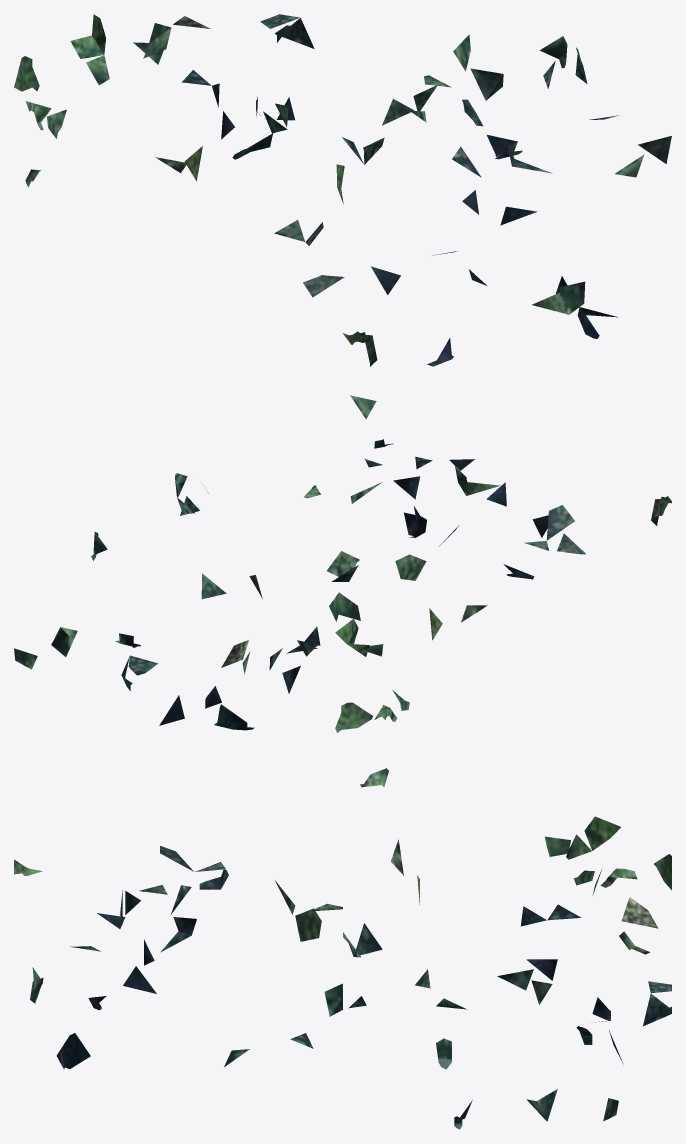
3 renders of one model, top to bottom at view 1: azimuth 30°, elevation 25°; view 2: azimuth 150°, elevation 25°; view 3: azimuth 270°, elevation 25°, orthographic. The views are drawn at different scales.
Visible parts, largest first — view 1: 30436272704370407406_1; view 2: 30436272704370407406_1; view 3: 30436272704370407406_1.
Boxes of the visible parts, box(x1,y1,x2,y2) form: 30436272704370407406_1: box(14, 14, 671, 366); 30436272704370407406_1: box(14, 395, 671, 787); 30436272704370407406_1: box(14, 816, 671, 1129).
Size of the model in its own units: 27.61 by 11.56 by 38.26.
Materials: 1 (1 with a texture image).
